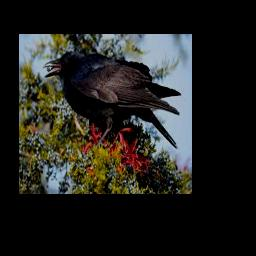Crow: (43, 52, 180, 150)
